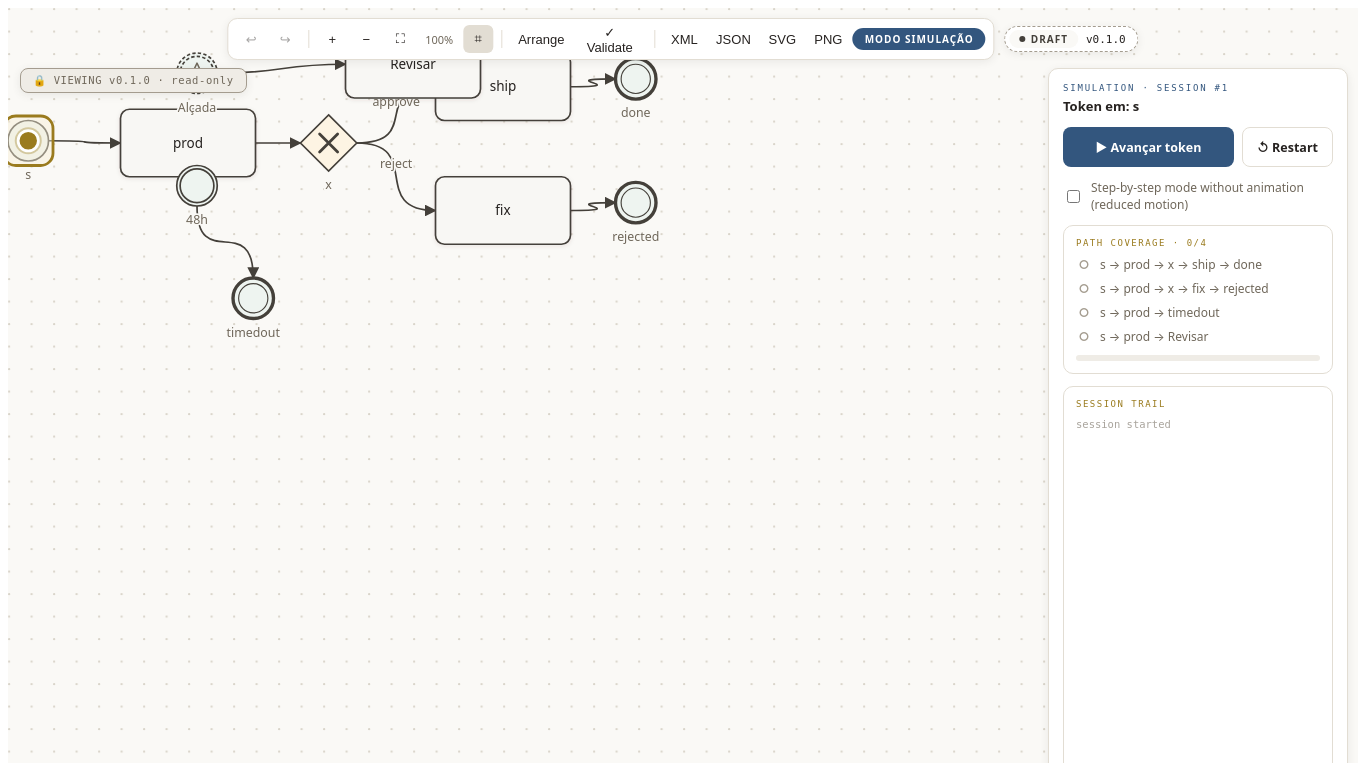
Scenario: escalação na simulação (Handoff 18 §5e) › disparar a escalação NI faz o host SEGUIR e um token PARALELO re-emergir no catch
Click the button "▶ Avançar token" at [1148, 147], box [1063, 127, 1234, 167]
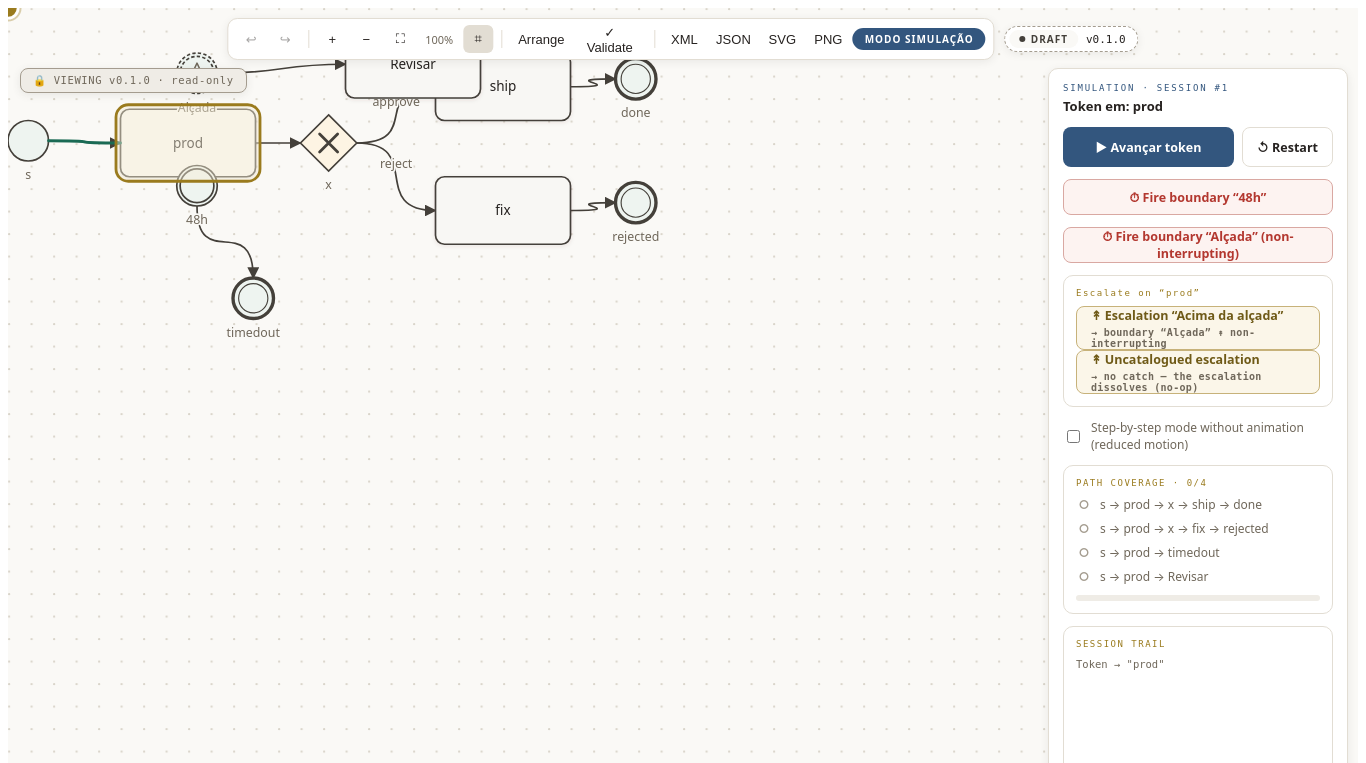
Click the button that starts with "Escalation “Acima da alçada”" at [1198, 328], box [1076, 306, 1320, 350]
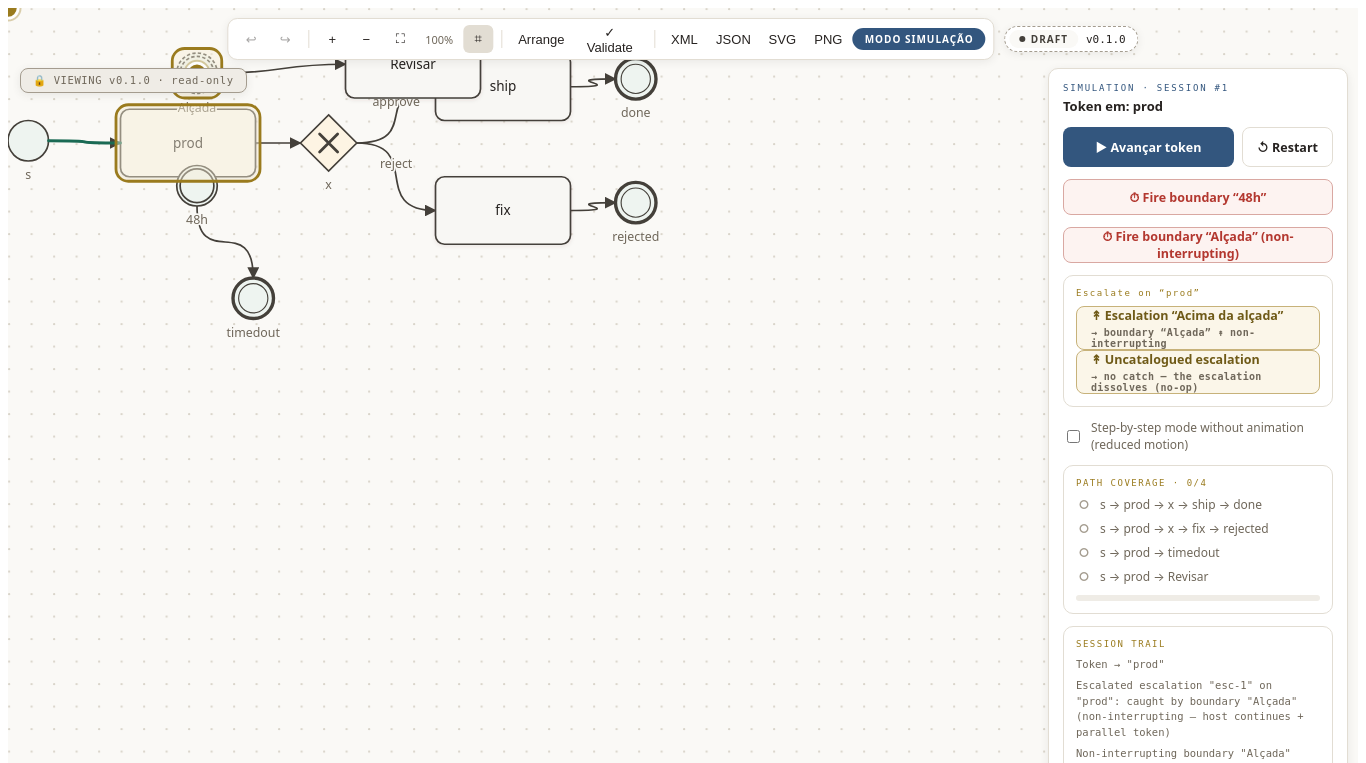
Result: the element that starts with "Token → \"prod\"" shows "caught by boundary \"Alçada\" (non-interrupting — host continues + parallel token)" at [1076, 679, 1304, 738]
